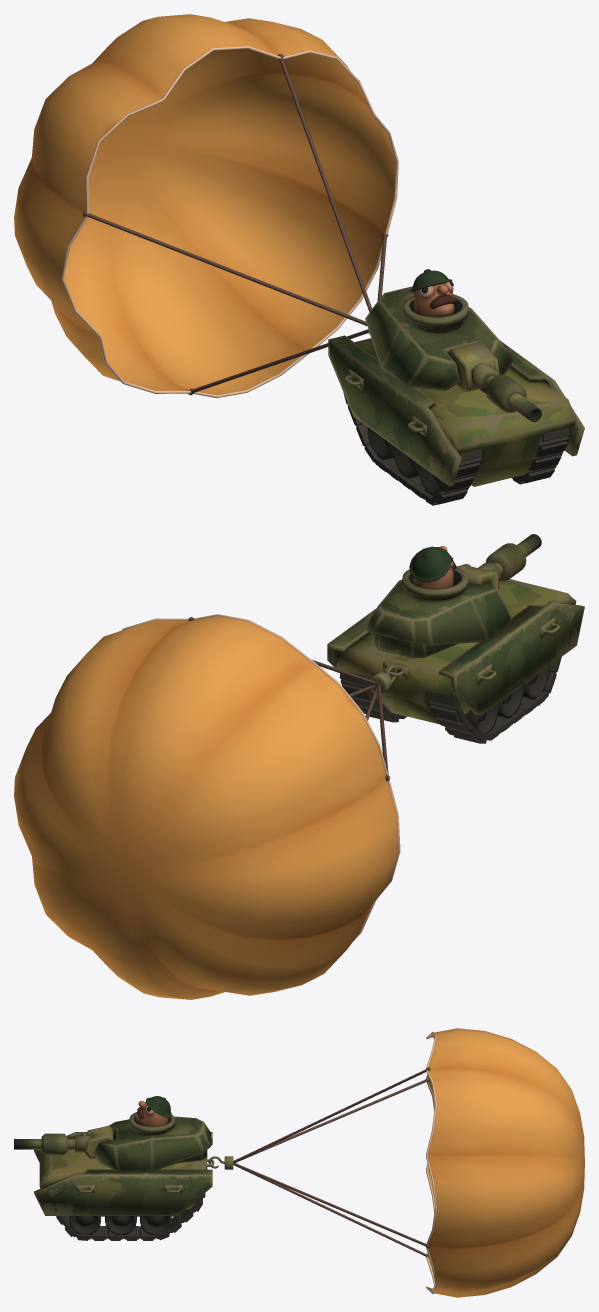
File: Tank (4).fbx
The picture shows the model from 3 angles, top to bottom: view 1: azimuth 30°, elevation 25°; view 2: azimuth 150°, elevation 25°; view 3: azimuth 270°, elevation 25°; orthographic projection. The views are drawn at different scales.
Visible parts, largest first — view 1: Parachute, Body, Tower, Barrel, Head; view 2: Parachute, Body, Tower, Barrel, Head; view 3: Parachute, Body, Tower, Barrel, Head.
Part boxes in pixels (x1,y1,x2,y2): Parachute: (14, 14, 398, 398); Body: (328, 335, 584, 505); Tower: (365, 286, 513, 390); Barrel: (448, 341, 541, 421); Head: (410, 269, 456, 317); Parachute: (14, 614, 400, 999); Body: (327, 566, 584, 743); Tower: (364, 567, 513, 658); Barrel: (456, 534, 541, 589); Head: (409, 546, 455, 588); Parachute: (208, 1028, 584, 1297); Body: (34, 1132, 214, 1240); Tower: (93, 1112, 210, 1171); Barrel: (14, 1125, 113, 1158); Head: (135, 1096, 171, 1126).
Bounding box in the file's own units: 740 × 740 × 1523.
1 material, 1 textured.
